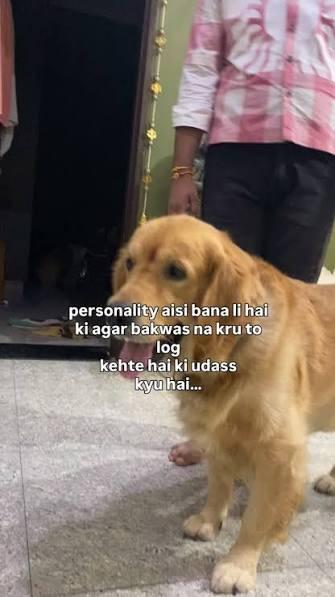adult_dog: (97, 211, 335, 594)
non-dog: (166, 0, 335, 285)
